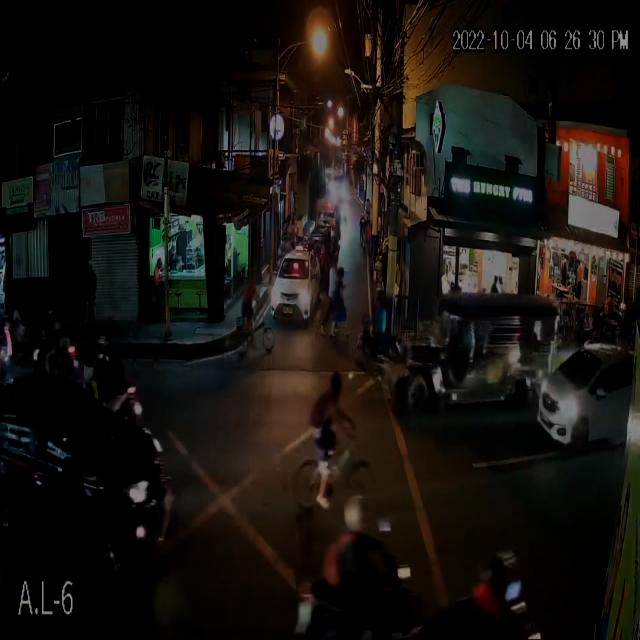Full-Faced: (478, 545, 512, 600), (344, 490, 366, 533)
